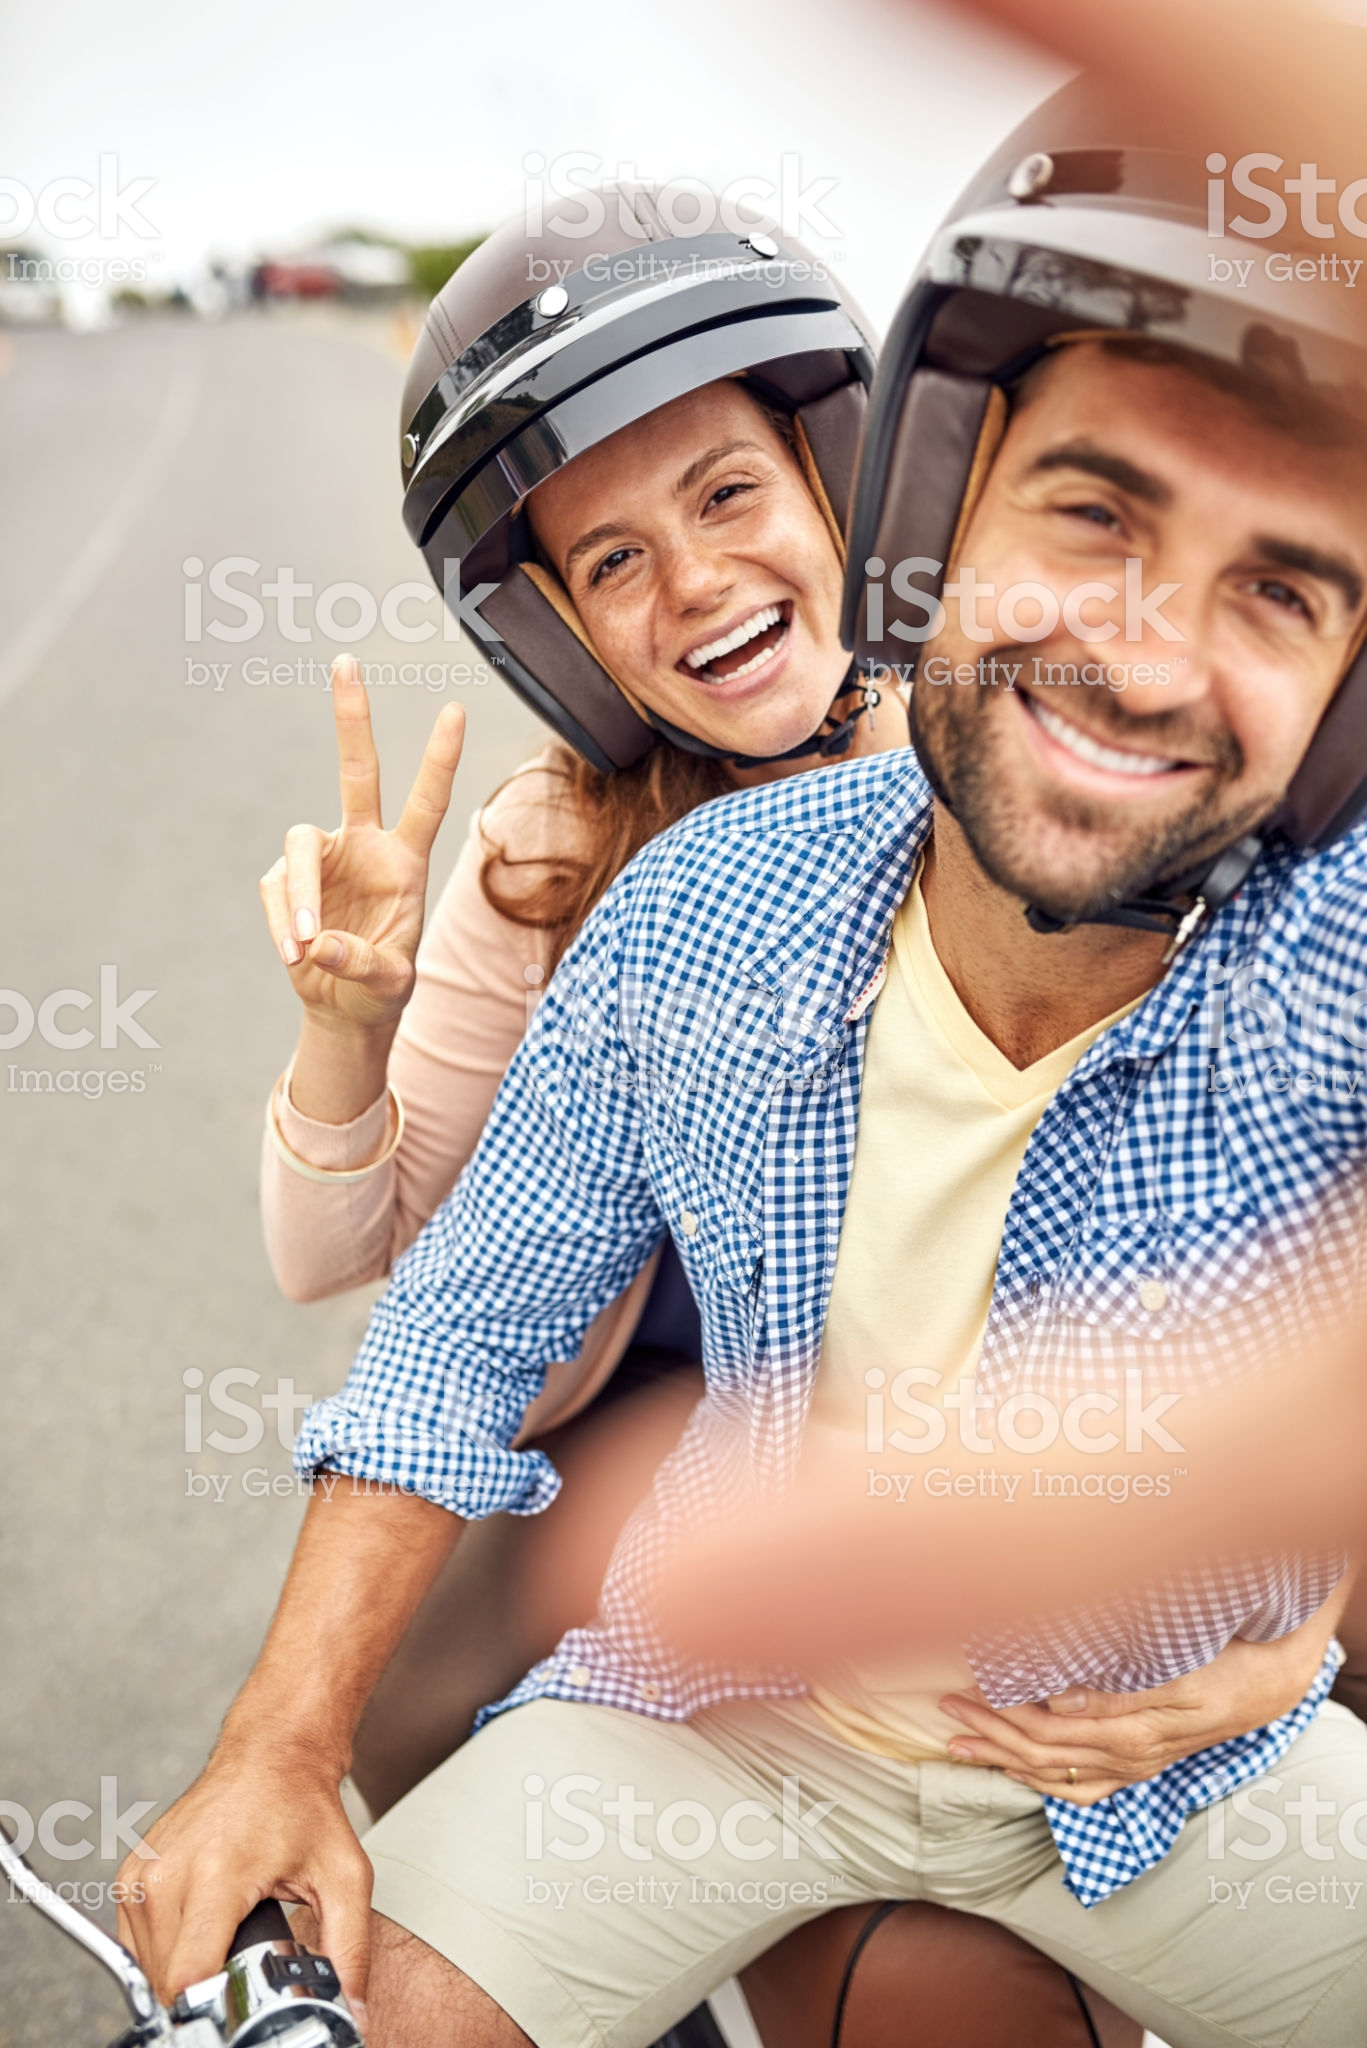helmet: (839, 88, 1367, 708), (371, 213, 899, 706)
